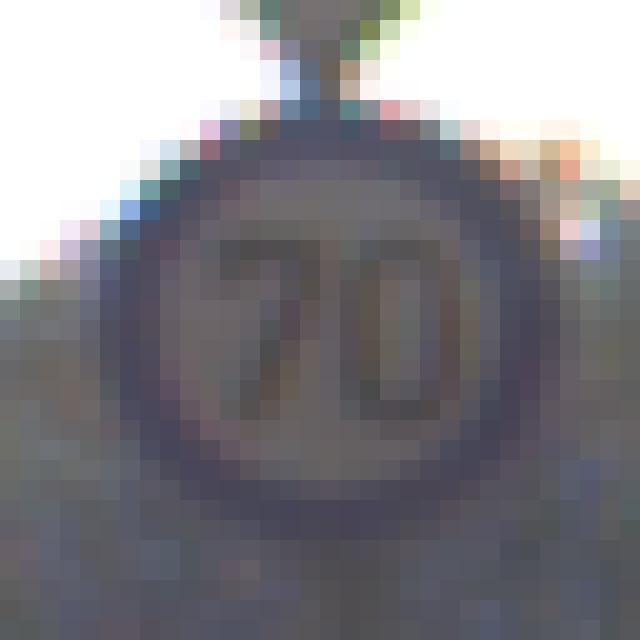SPEED LIMIT 70: (118, 113, 560, 523)
